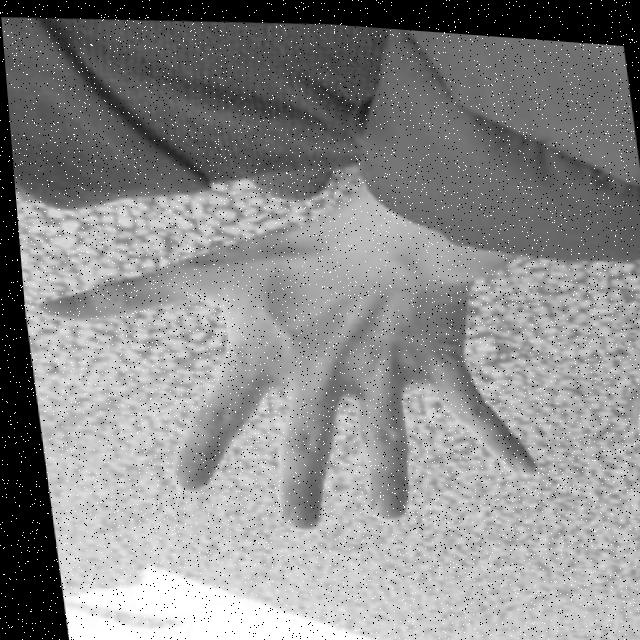hand: (23, 206, 540, 554)
